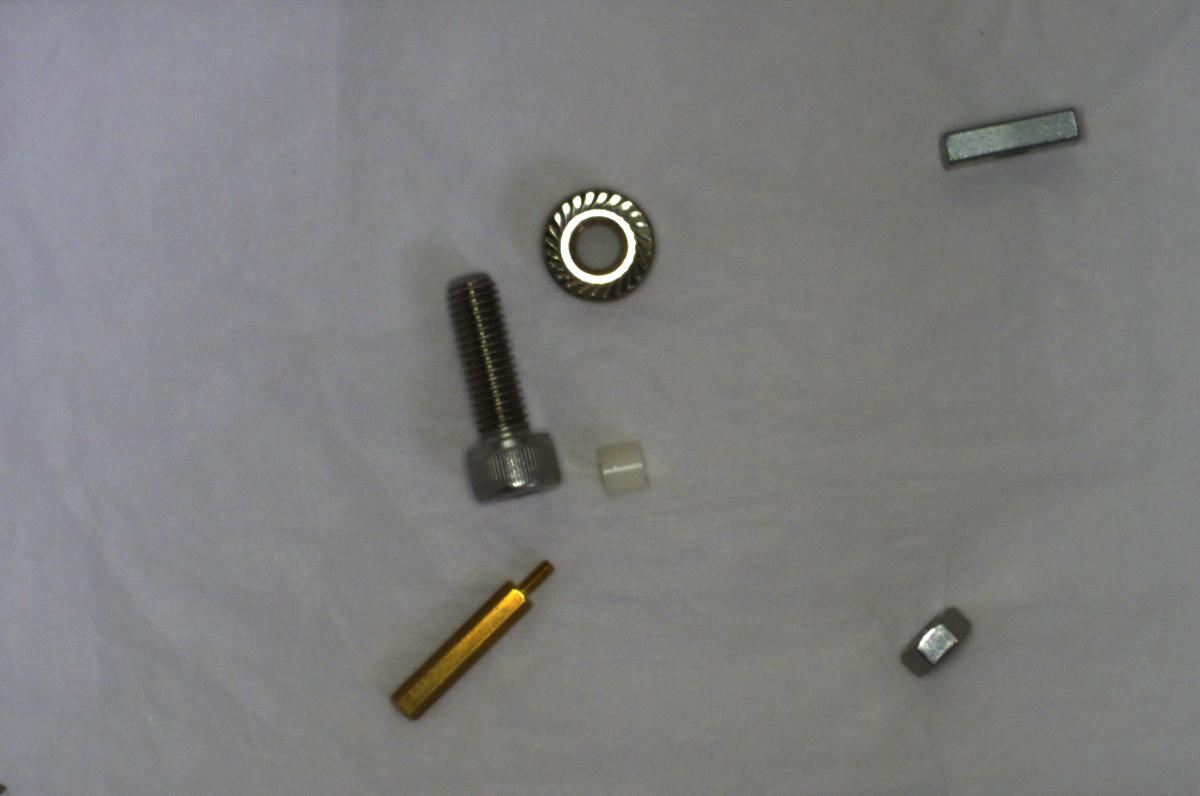Flange nut: (531, 183, 664, 306)
Hexagon nut: (890, 602, 984, 680)
Hexagon pillar: (384, 552, 560, 725)
Hexagon screw: (438, 261, 564, 507)
Plastic cushion pillar: (586, 432, 655, 505)
Rectangular nut: (930, 105, 1085, 172)
